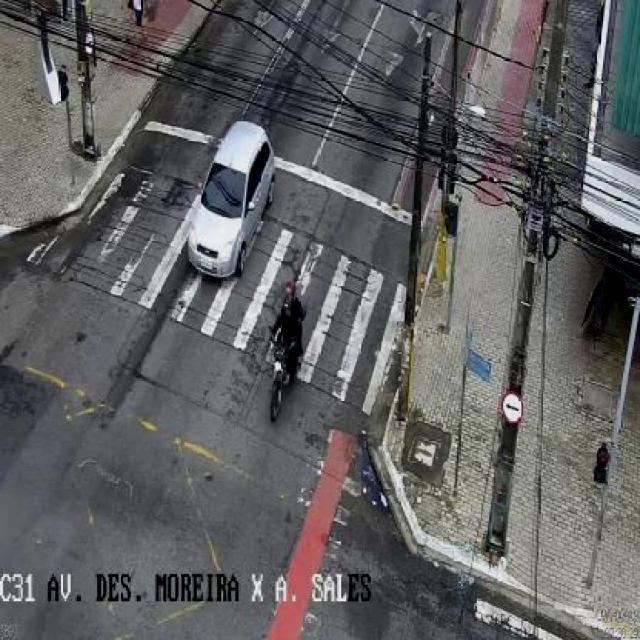Car: (162, 119, 286, 291)
Cycle: (235, 285, 339, 416)
